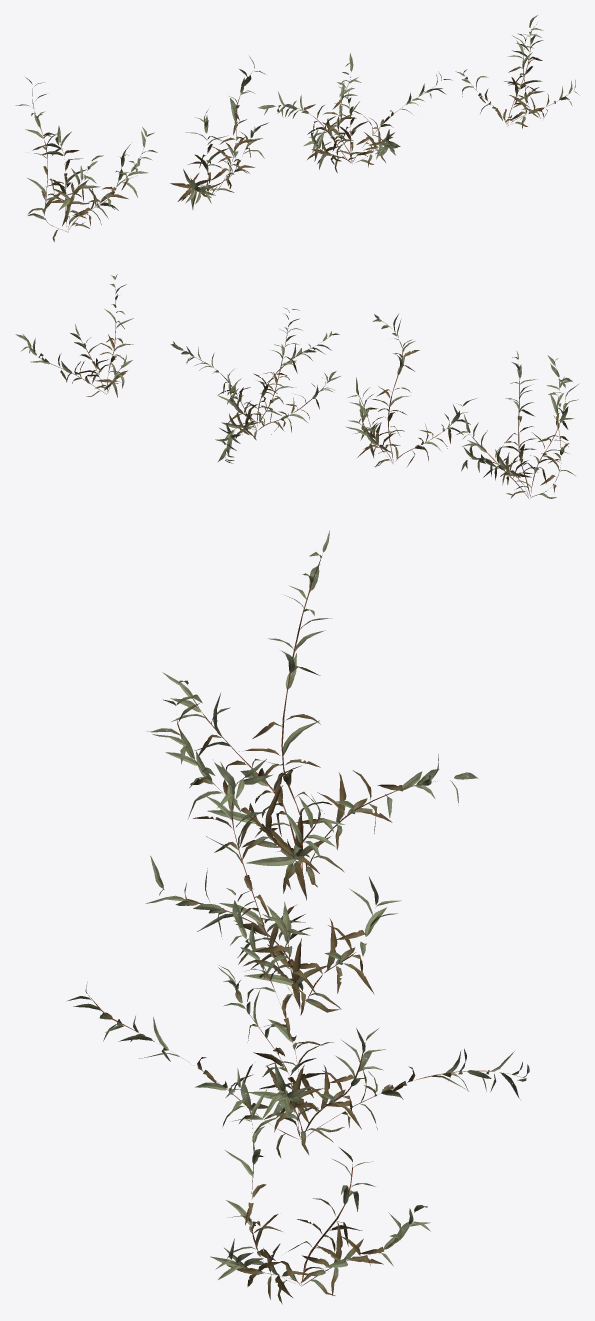
Rendered from shrub-02.glb.
3 renders of one model, top to bottom at view 1: azimuth 30°, elevation 25°; view 2: azimuth 150°, elevation 25°; view 3: azimuth 270°, elevation 25°, orthographic. The views are drawn at different scales.
Parts seen in each view (by area): view 1: shrub_02_c, shrub_02_a, shrub_02_b, shrub_02_d; view 2: shrub_02_c, shrub_02_a, shrub_02_b, shrub_02_d; view 3: shrub_02_a, shrub_02_c, shrub_02_b, shrub_02_d.
Part boxes in pixels (bbox=[...]): shrub_02_c: bbox=[257, 53, 451, 173]; shrub_02_a: bbox=[15, 77, 157, 241]; shrub_02_b: bbox=[170, 56, 268, 209]; shrub_02_d: bbox=[455, 15, 579, 128]; shrub_02_c: bbox=[171, 307, 340, 463]; shrub_02_a: bbox=[456, 351, 579, 498]; shrub_02_b: bbox=[345, 314, 476, 467]; shrub_02_d: bbox=[15, 274, 133, 397]; shrub_02_a: bbox=[146, 530, 478, 900]; shrub_02_c: bbox=[66, 888, 529, 1158]; shrub_02_b: bbox=[145, 759, 401, 1018]; shrub_02_d: bbox=[210, 1068, 430, 1304].
Size of the model in its own units: 6.05 by 1.7 by 2.29.
Materials: 1 (1 with a texture image).
